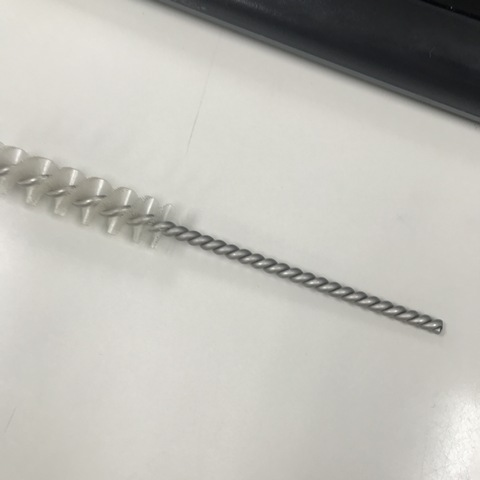Twist Brush-B: (1, 140, 448, 338)
